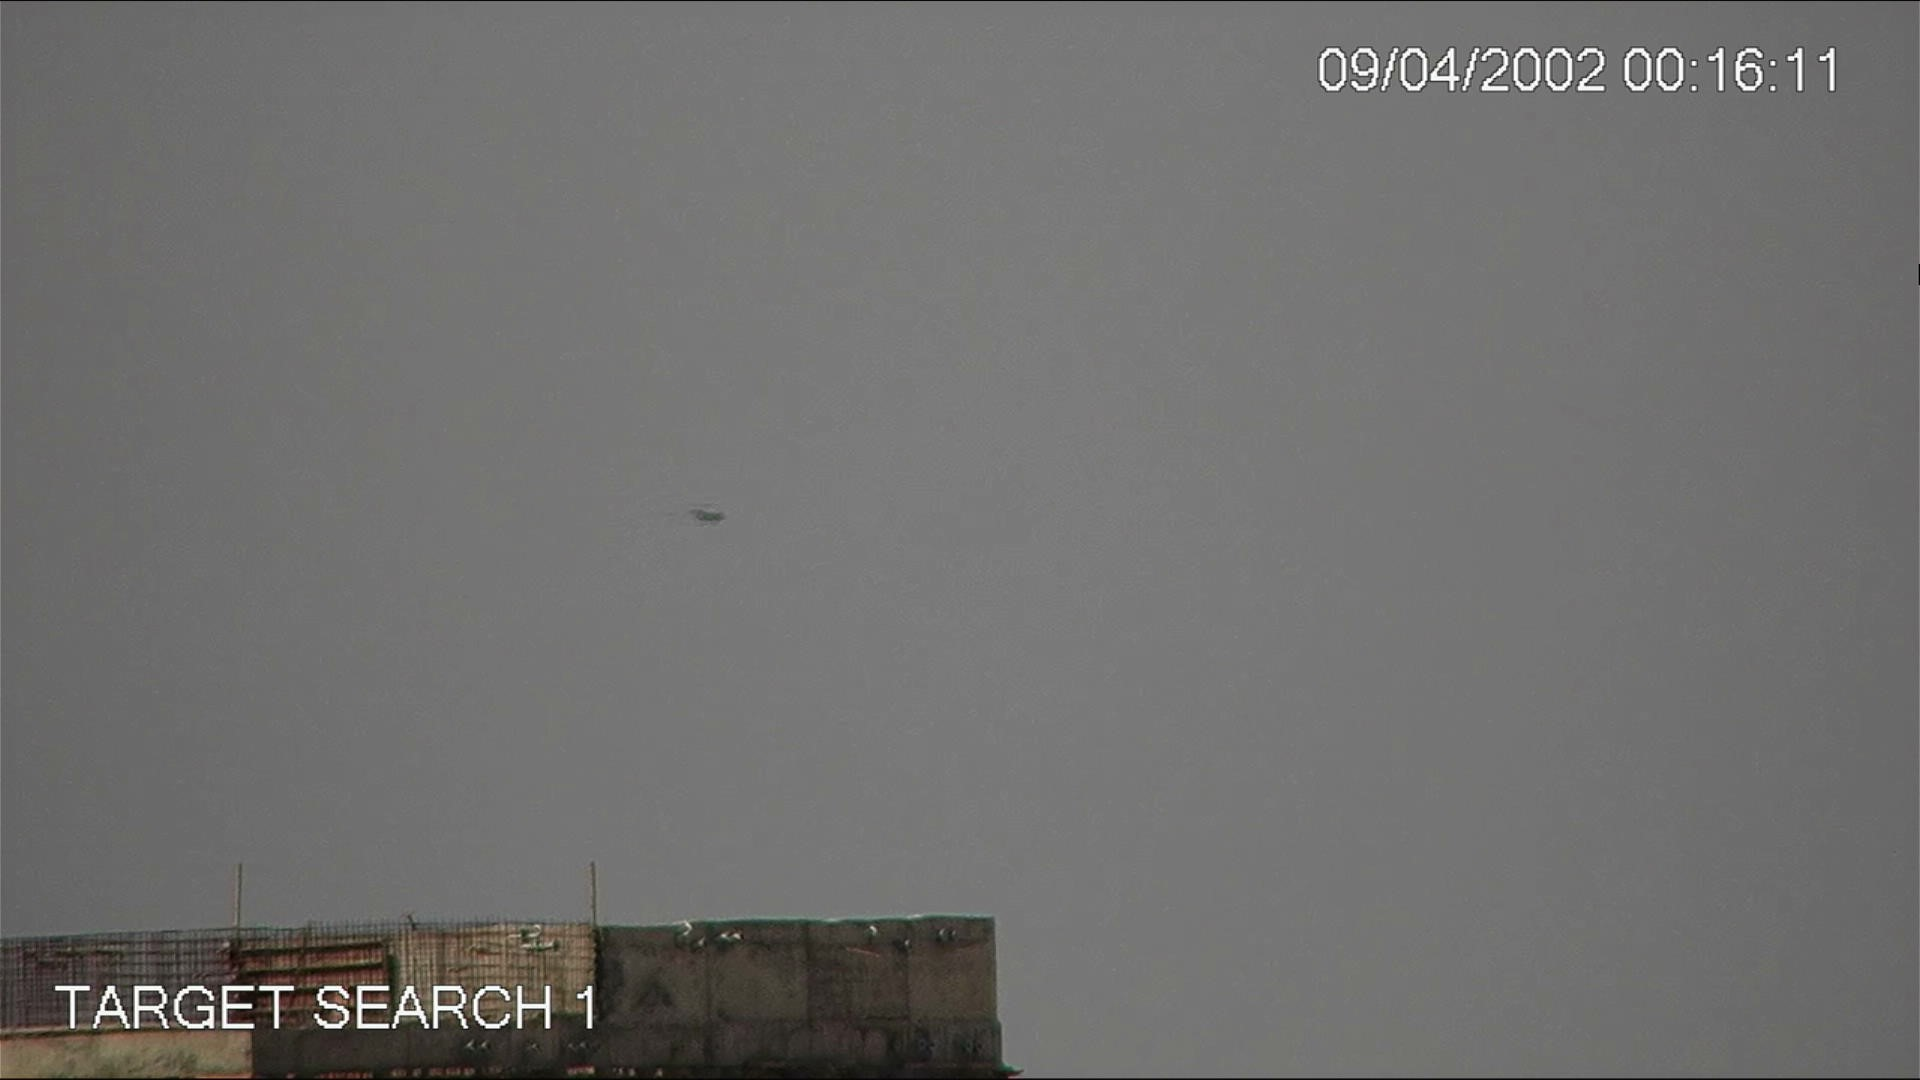SU_30: (692, 506, 728, 525)
